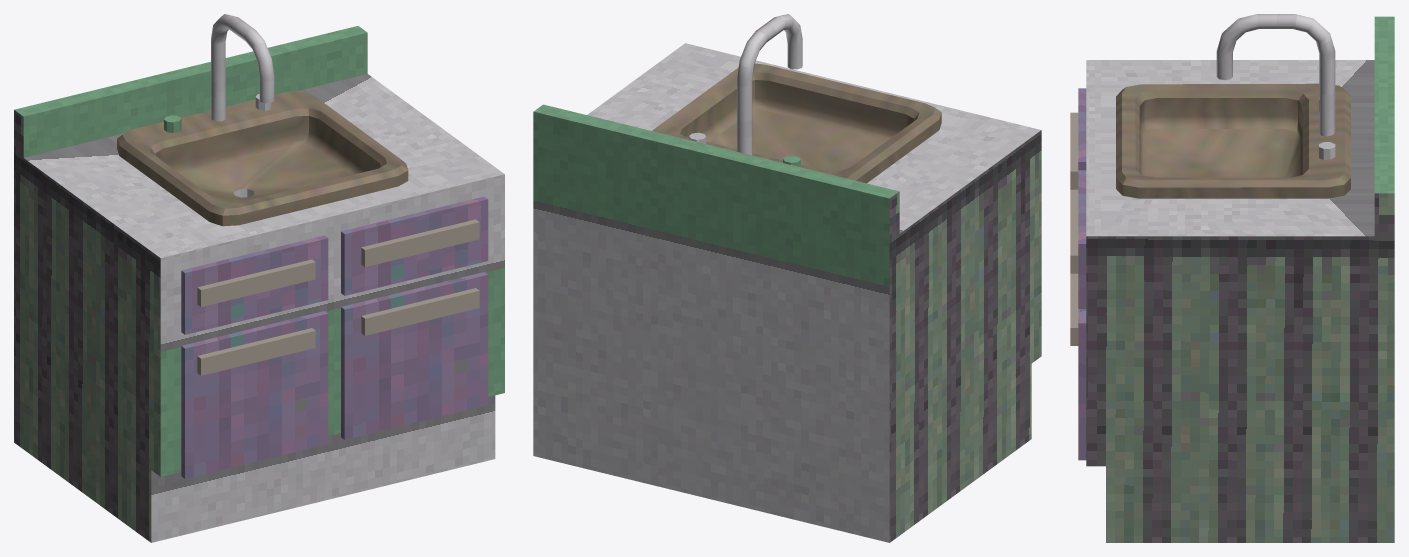
The model's file is Kitchen_Sink_Grp.fbx.
The picture shows the model from 3 angles, left to right: view 1: azimuth 30°, elevation 25°; view 2: azimuth 150°, elevation 25°; view 3: azimuth 270°, elevation 25°; orthographic projection. The views are drawn at different scales.
Visible parts, largest first — view 1: Furniture_for_Sink, Sink; view 2: Furniture_for_Sink, Sink; view 3: Furniture_for_Sink, Sink.
Boxes of the visible parts, <box> form: Furniture_for_Sink: <box>14,26,504,542</box>; Sink: <box>117,14,408,226</box>; Furniture_for_Sink: <box>533,43,1041,542</box>; Sink: <box>652,14,941,183</box>; Furniture_for_Sink: <box>1070,16,1394,542</box>; Sink: <box>1116,14,1350,198</box>.
Size of the model in its own units: 105 by 122 by 81.5.
